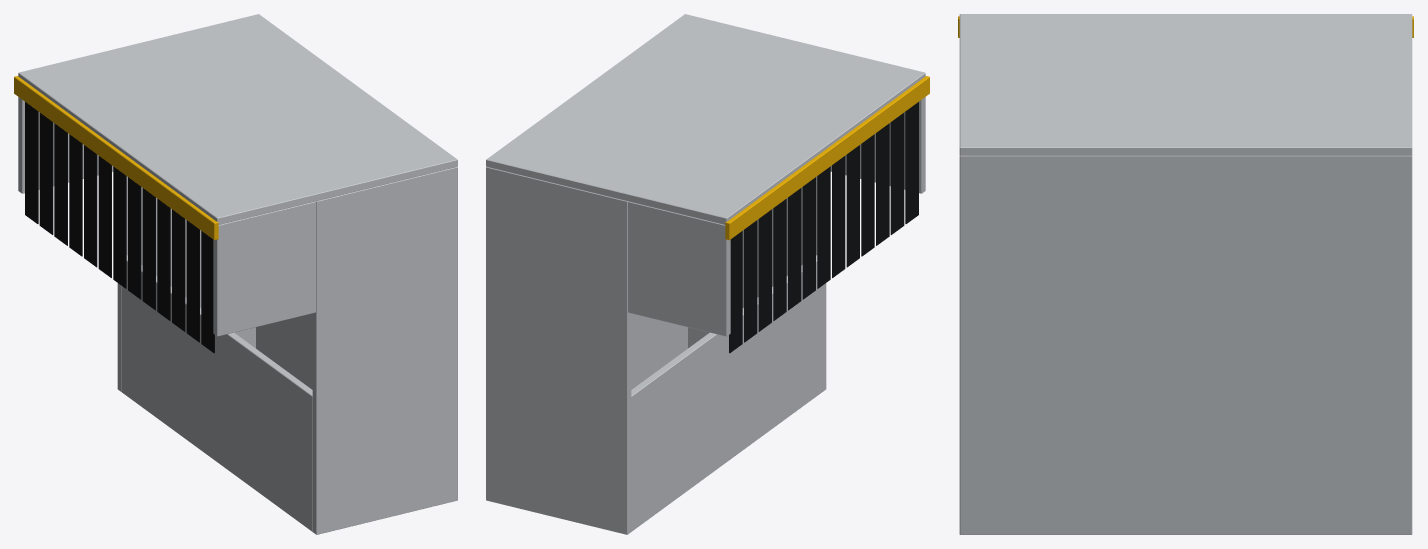
The model's file is remover_hood_1m4.glb.
The picture shows the model from 3 angles, left to right: view 1: azimuth 30°, elevation 25°; view 2: azimuth 150°, elevation 25°; view 3: azimuth 270°, elevation 25°; orthographic projection. The views are drawn at different scales.
Parts seen in each view (by area): view 1: Hood; view 2: Hood; view 3: Hood.
Part boxes in pixels (bbox=[...]): Hood: bbox=[14, 14, 457, 534]; Hood: bbox=[486, 14, 929, 534]; Hood: bbox=[958, 14, 1413, 534].
Size of the model in its own units: 1.04 by 1.38 by 1.47.
